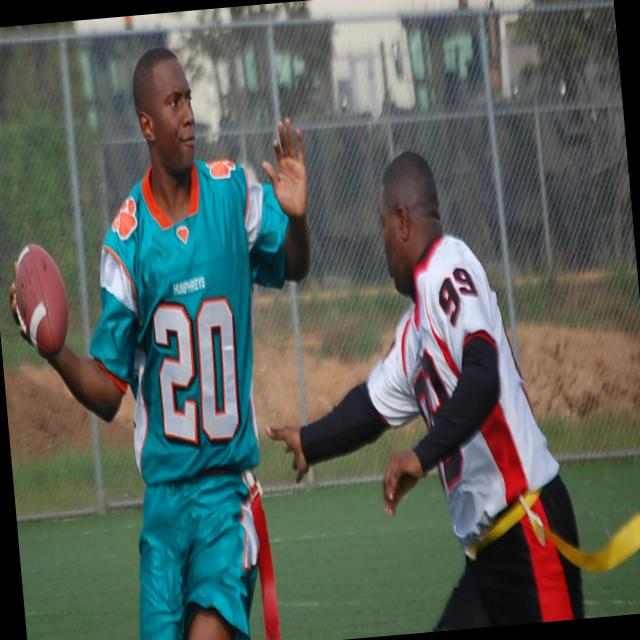Ball: (12, 242, 73, 359)
